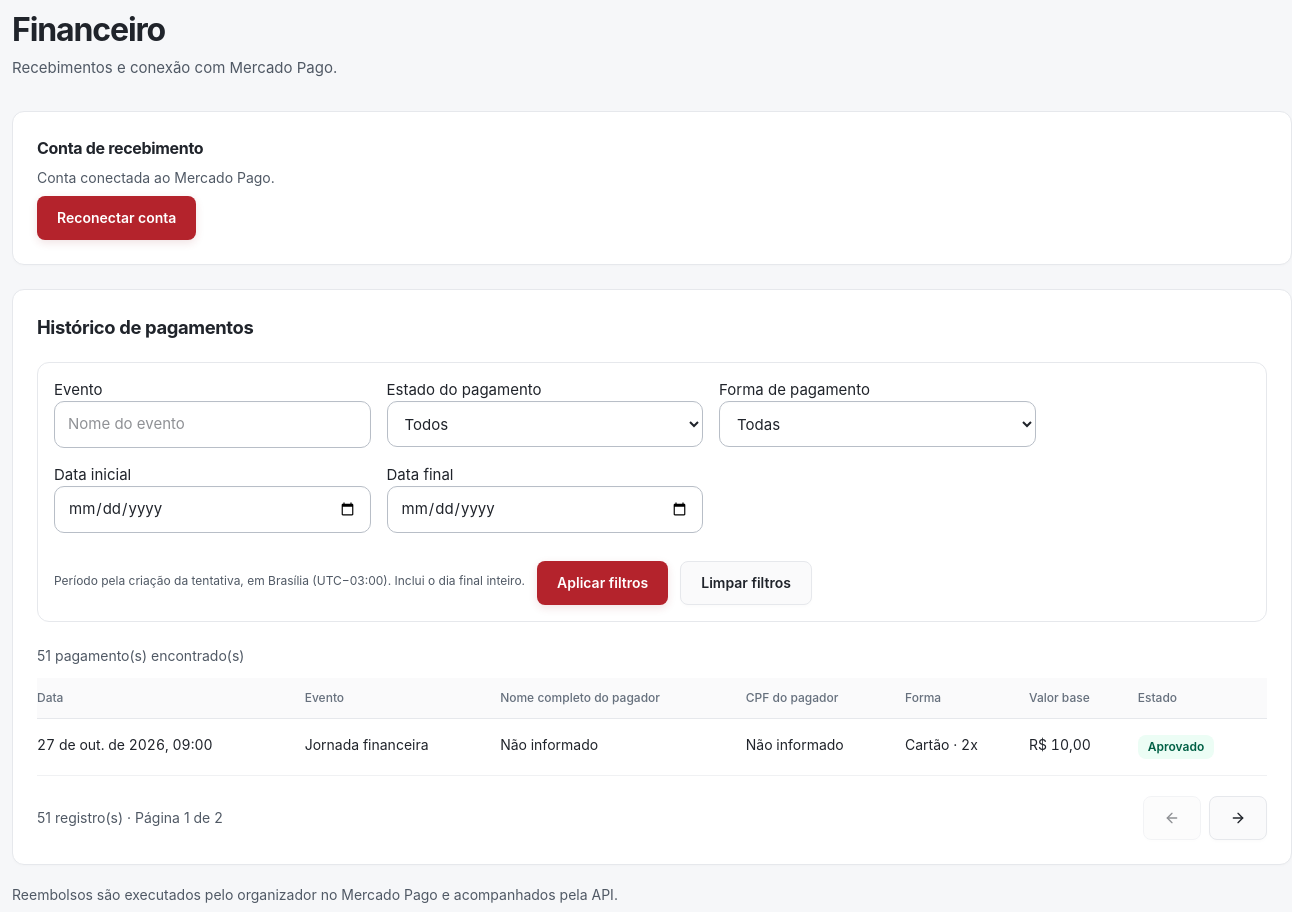
Histórico financeiro › preserva filtros ao paginar e volta à primeira página ao aplicar ou limpar
Expected: the cell "Jornada financeira" is shown, [305,718,500,775]
Click the button named "Próxima página" at (1238, 818), box [1209,796,1267,840]
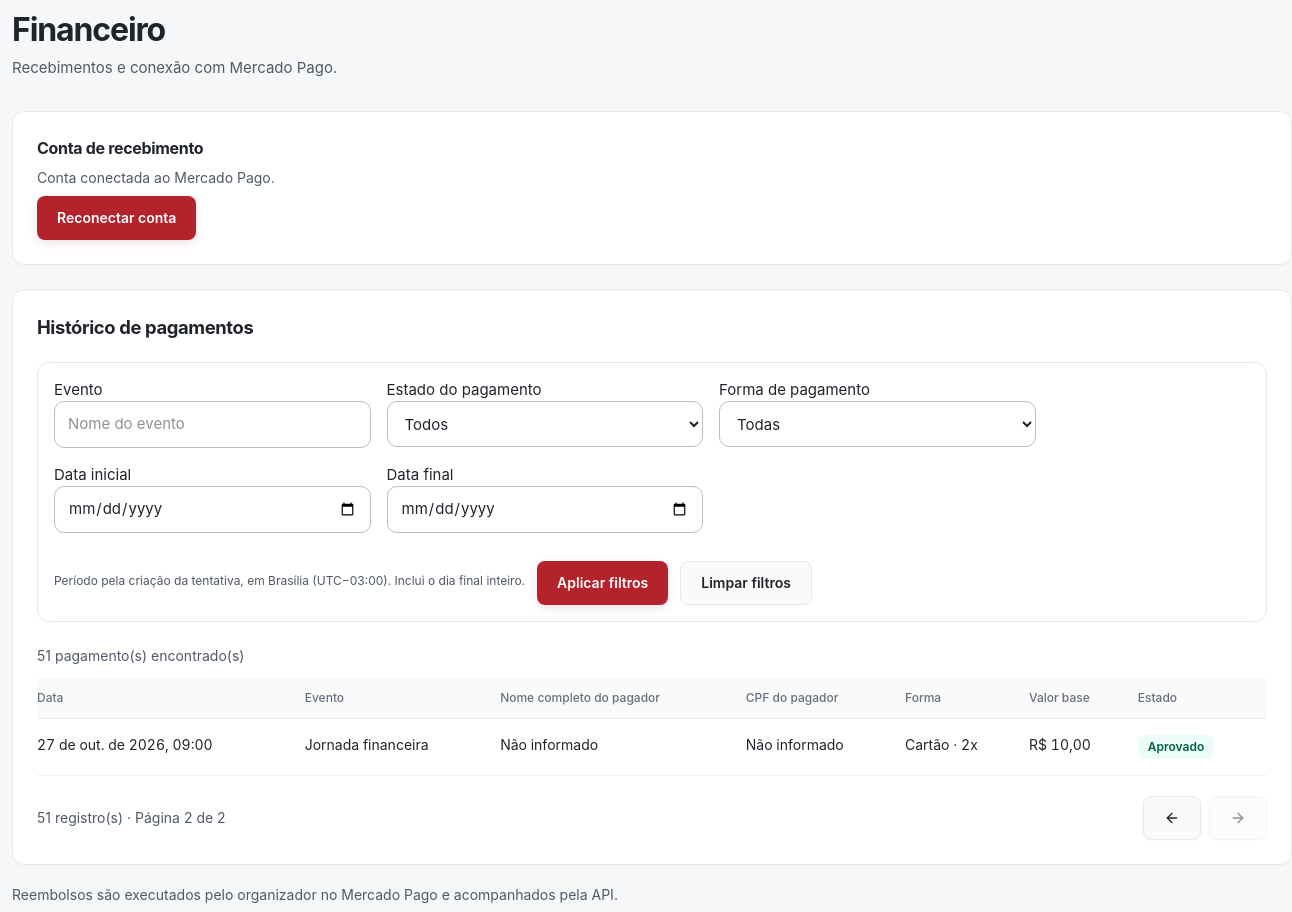
Type "Jornada" into the field labelled "Evento" at (212, 425), box [54,401,370,448]
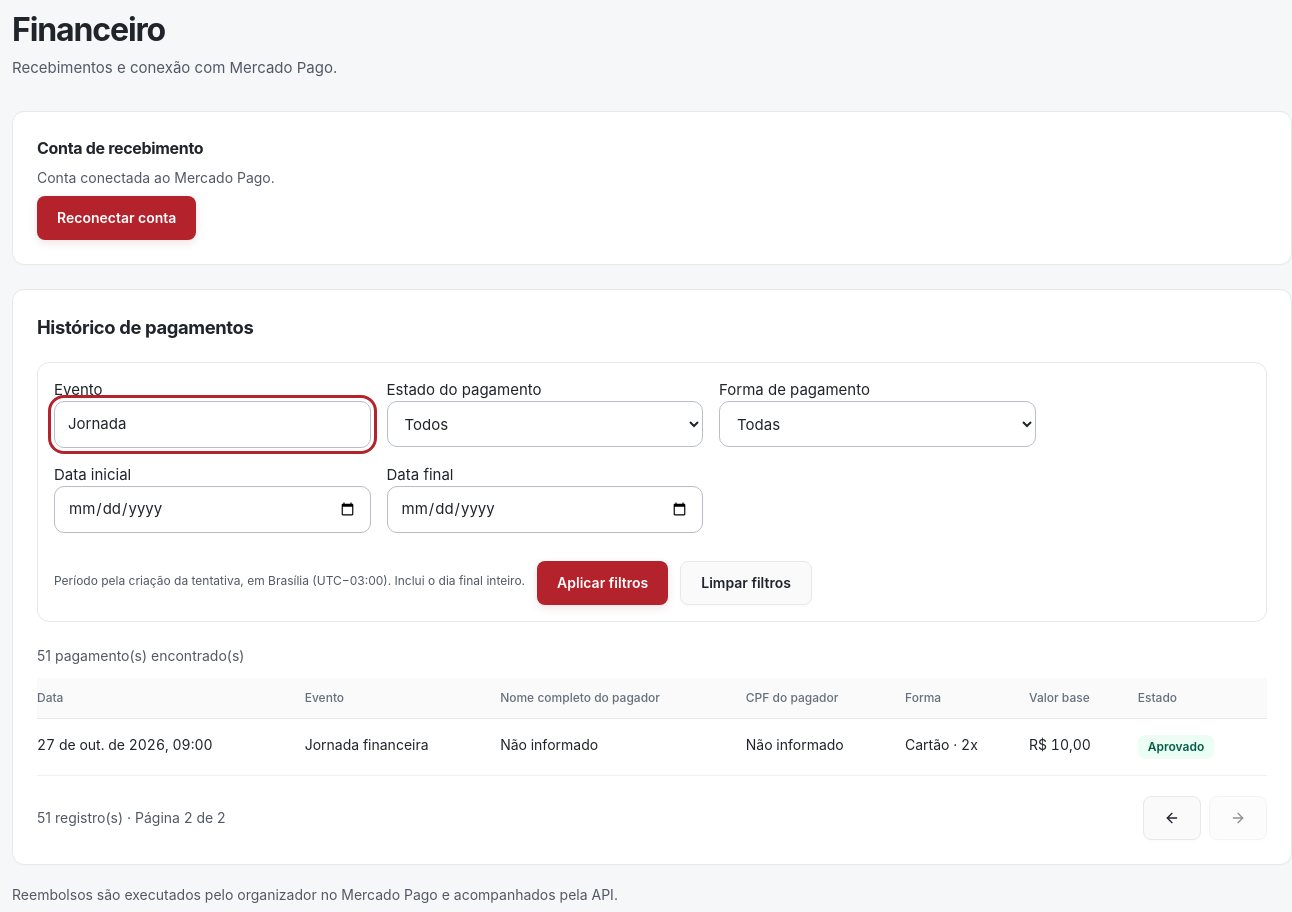
Select "Cartão" in the dropdown labelled "Forma de pagamento" at (877, 424), box [719,401,1036,447]
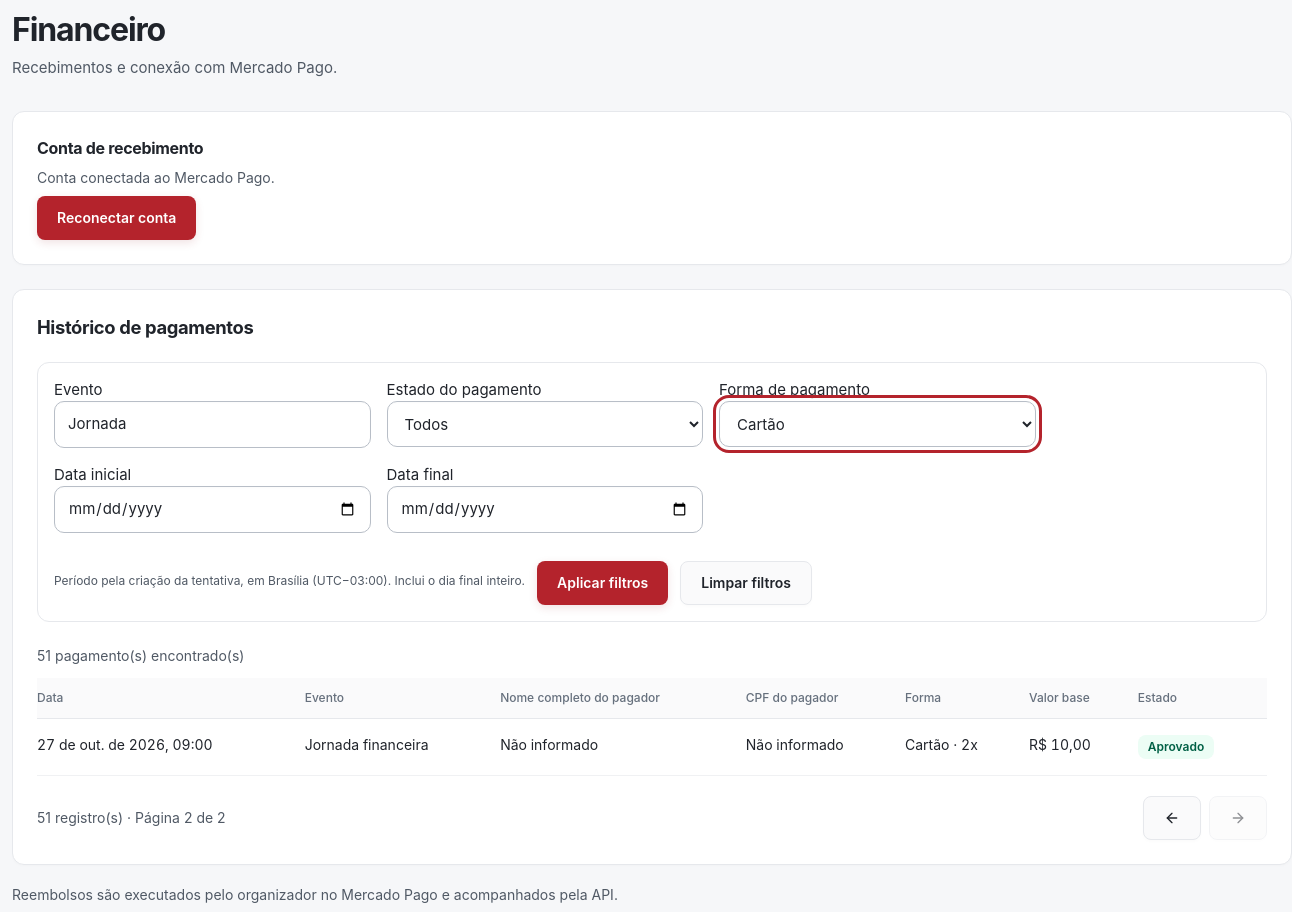
Click the button "Aplicar filtros" at (603, 583), box [537,561,668,605]
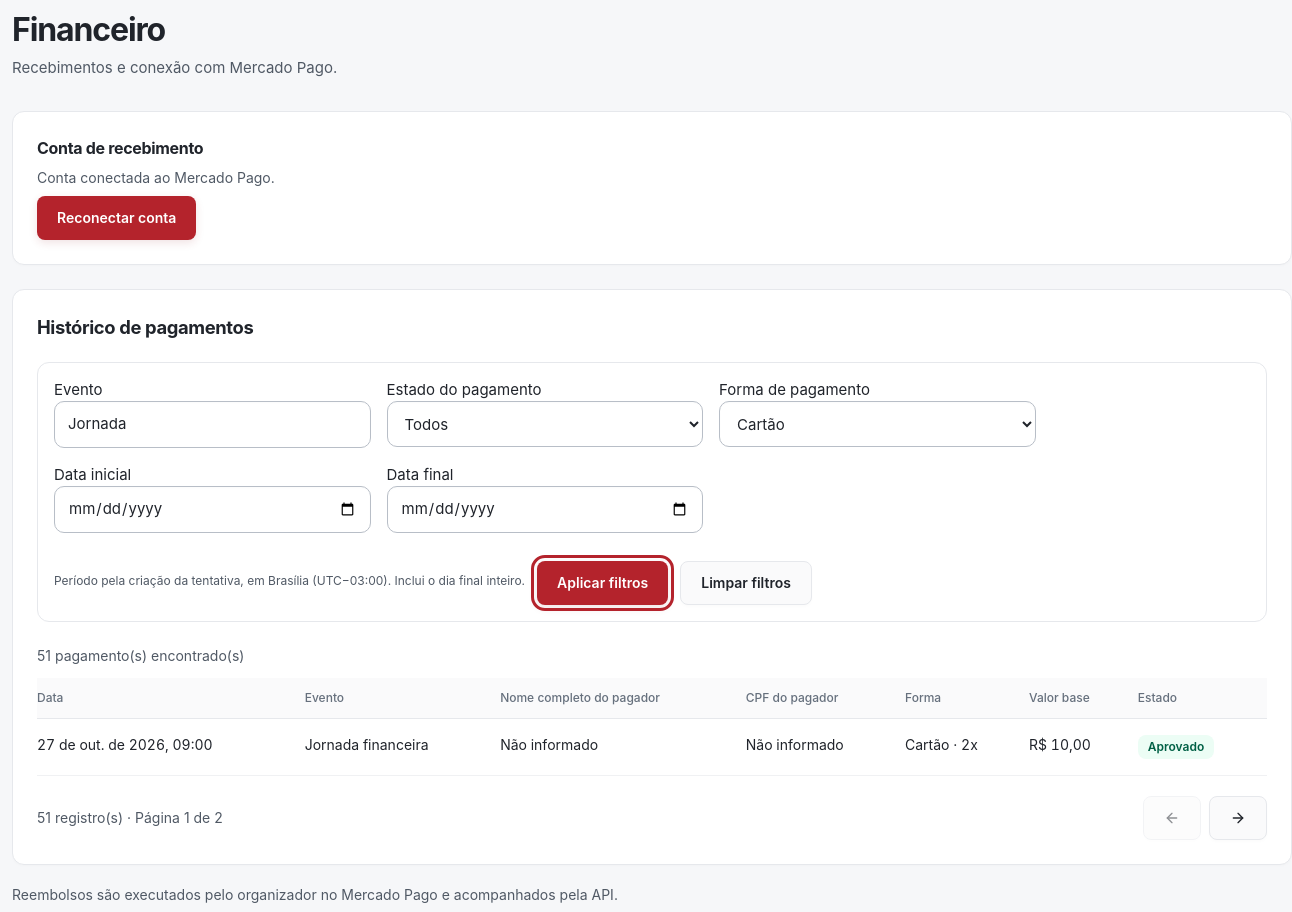
Click the button named "Próxima página" at (1238, 818), box [1209,796,1267,840]
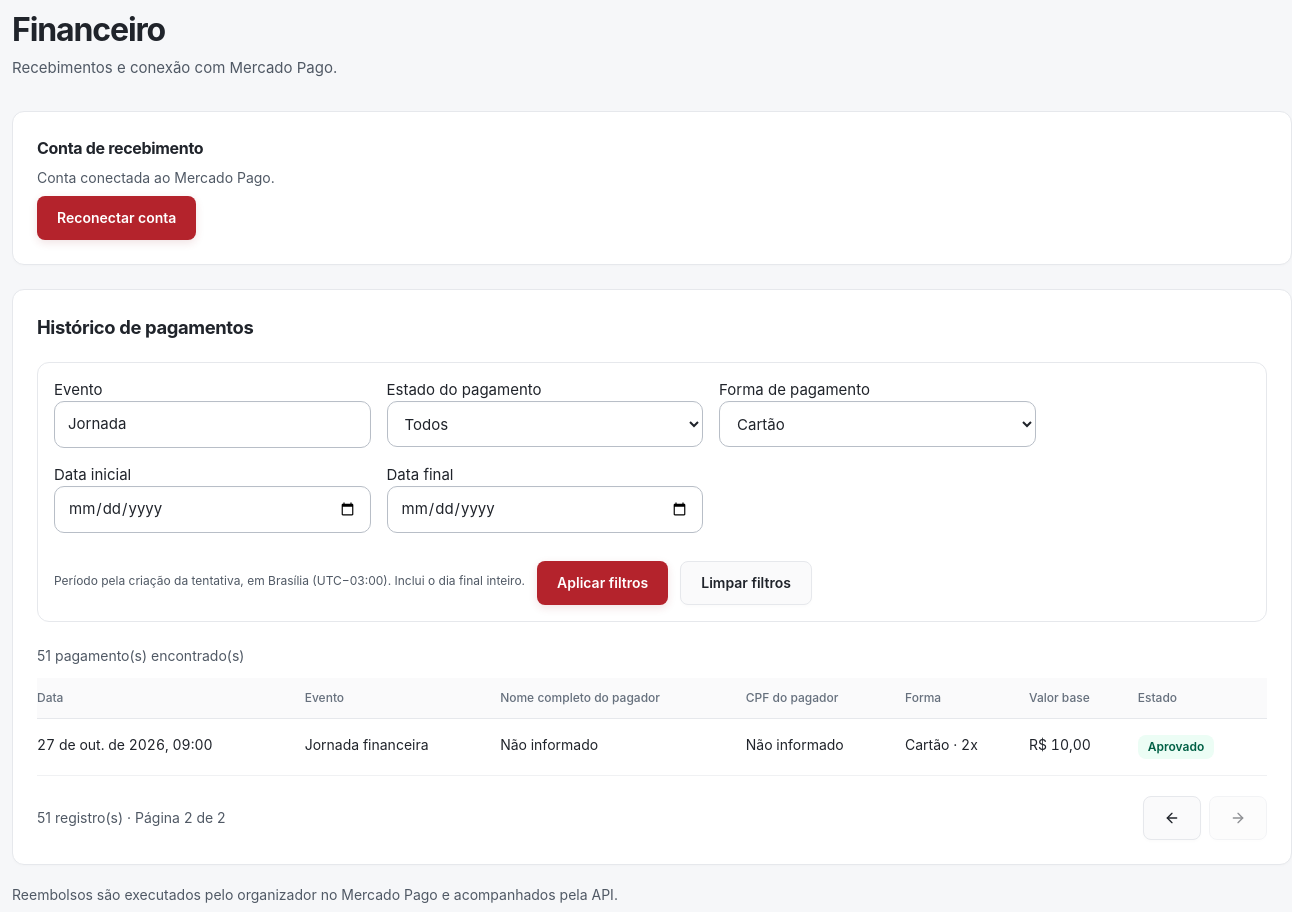
Click the button "Limpar filtros" at (746, 583), box [680,561,812,605]
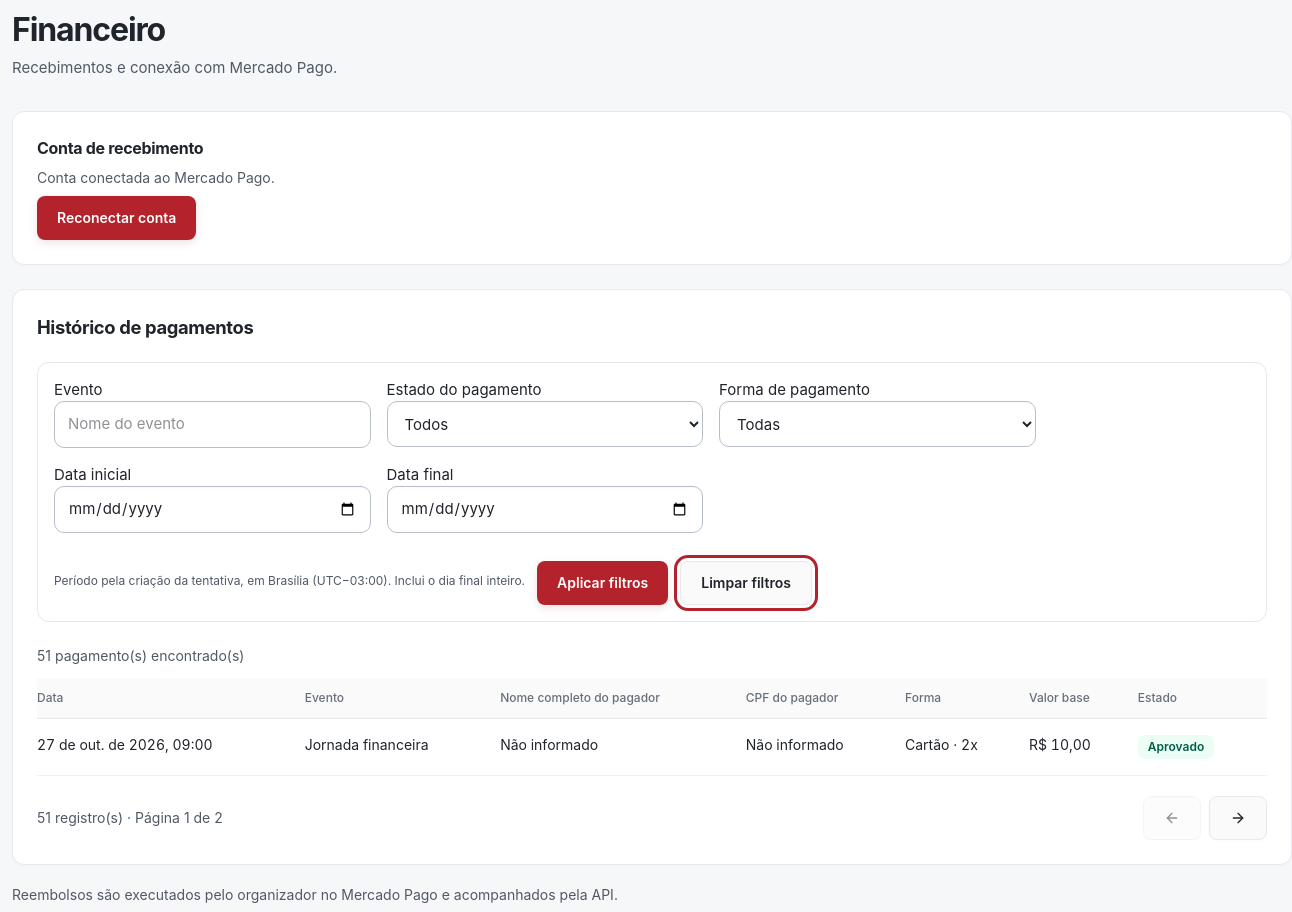
Expected: the text "51 registro(s) · Página 1 de 2" is shown, [37,808,223,828]
Expected: the field labelled "Evento" is empty, [54,401,370,448]
